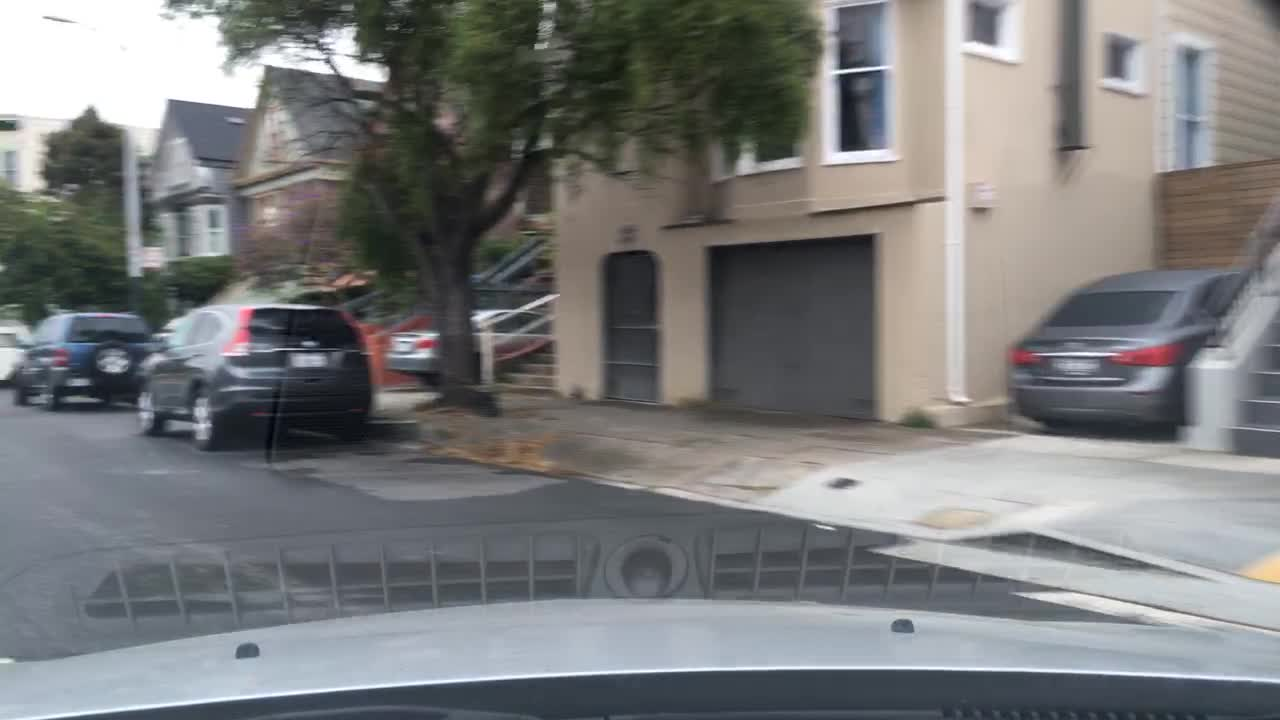car: (1006, 267, 1242, 437), (133, 301, 371, 451), (10, 310, 166, 409), (387, 306, 557, 387), (0, 317, 30, 383)
